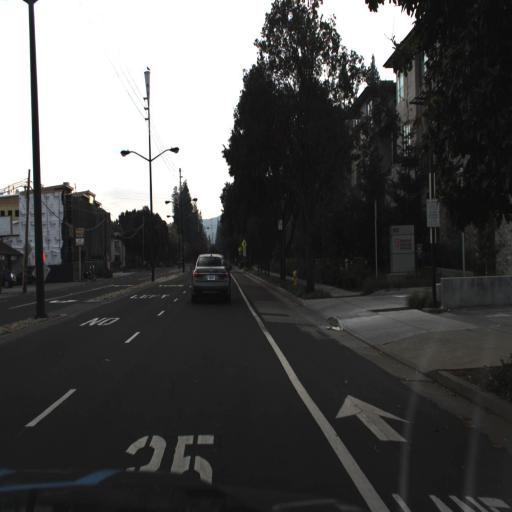car: (188, 249, 234, 306)
